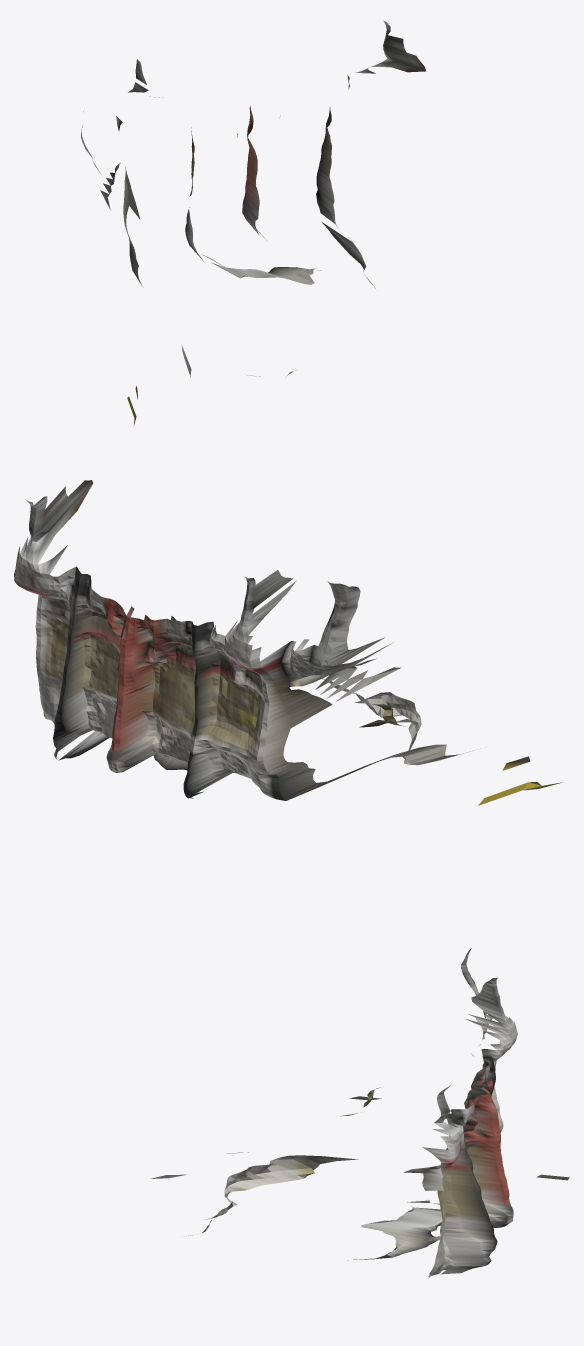
The model's file is cart-observed.glb.
3 renders of one model, top to bottom at view 1: azimuth 30°, elevation 25°; view 2: azimuth 150°, elevation 25°; view 3: azimuth 270°, elevation 25°, orthographic. The views are drawn at different scales.
Visible parts, largest first — view 1: geometry_0; view 2: geometry_0; view 3: geometry_0.
Boxes of the visible parts, <box> form: geometry_0: <box>81,20,425,424</box>; geometry_0: <box>14,480,562,805</box>; geometry_0: <box>151,948,569,1278</box>.
Bounding box in the file's own units: 3.06 × 1.76 × 3.58.
